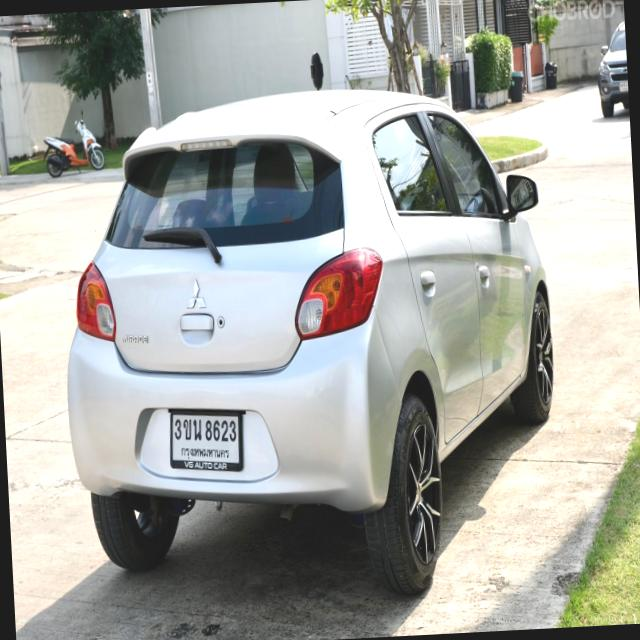license_plate: (167, 404, 246, 474)
